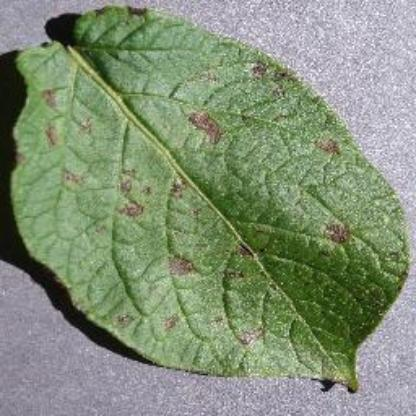Early-Blight: (9, 6, 410, 394)
